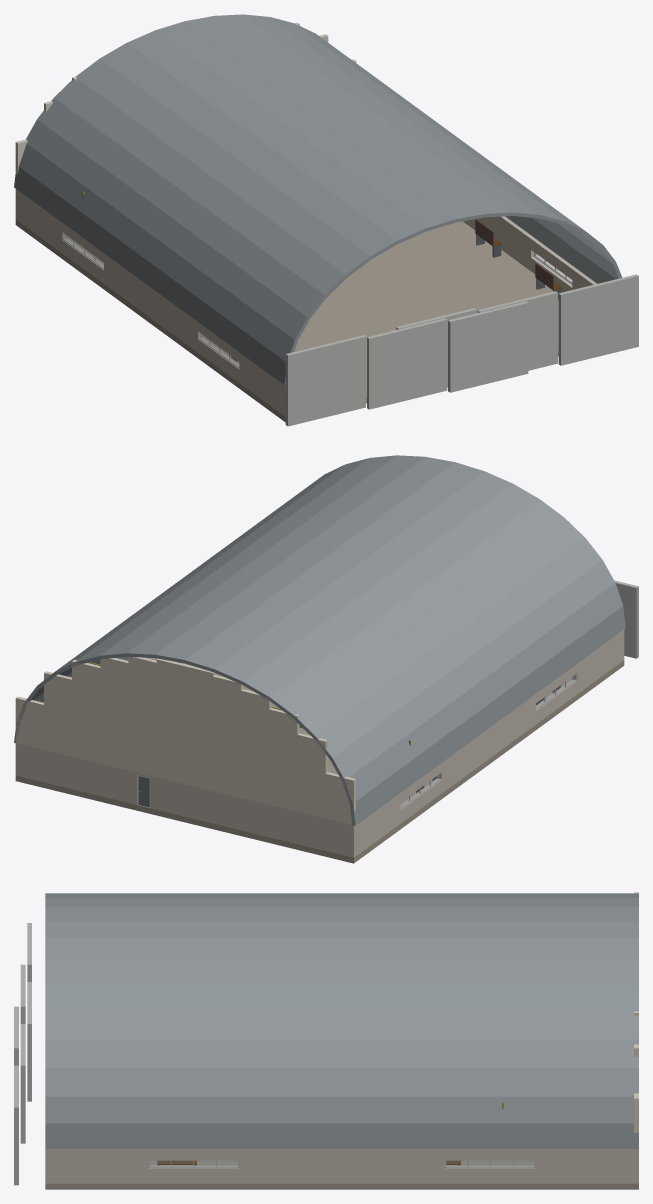
File: alert_shelter.glb
The picture shows the model from 3 angles, top to bottom: view 1: azimuth 30°, elevation 25°; view 2: azimuth 150°, elevation 25°; view 3: azimuth 270°, elevation 25°; orthographic projection. The views are drawn at different scales.
Parts seen in each view (by area): view 1: LOD0, FURN; view 2: LOD0; view 3: LOD0.
Boxes of the visible parts, x1,y1,x2,y2 form: LOD0: (14, 14, 638, 426); FURN: (229, 219, 562, 362); LOD0: (14, 455, 638, 863); LOD0: (14, 892, 638, 1189).
Size of what is drawn, in the model's own units: 26.63 by 11.93 by 37.9.
